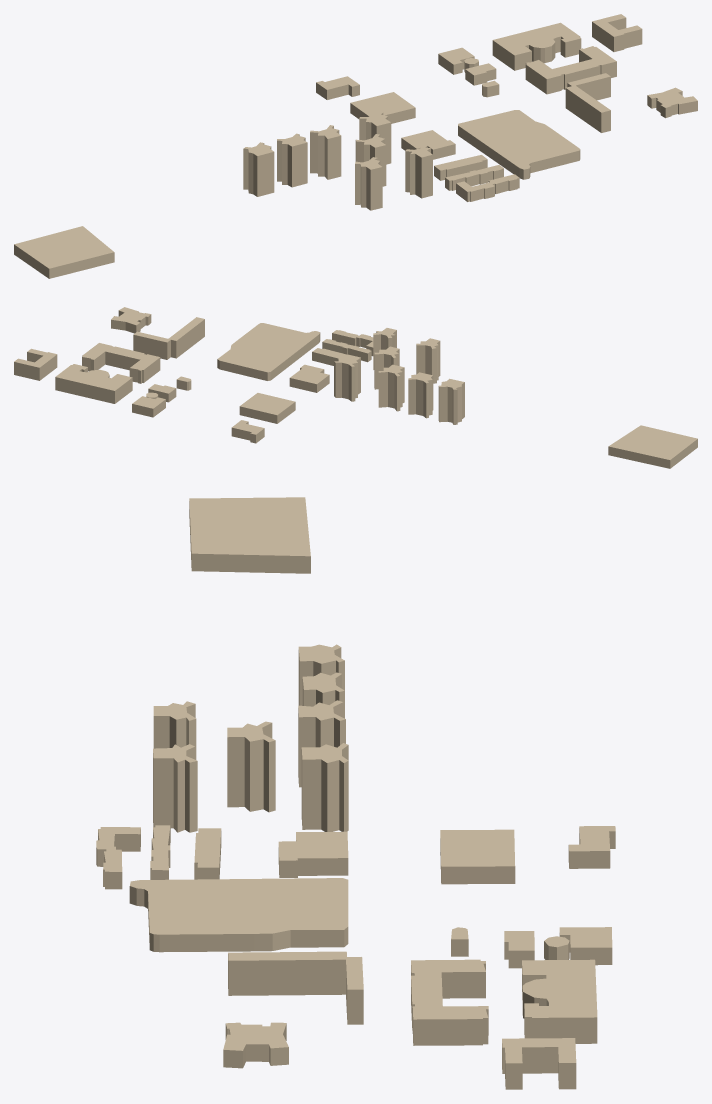
Rendered from 10_4-estimated-coarse.glb.
3 views of the same model, one above another, from view 1: azimuth 30°, elevation 25°; view 2: azimuth 150°, elevation 25°; view 3: azimuth 270°, elevation 25° (orthographic). The views are drawn at different scales.
Bounding box in the file's own units: 843 × 48 × 322.
